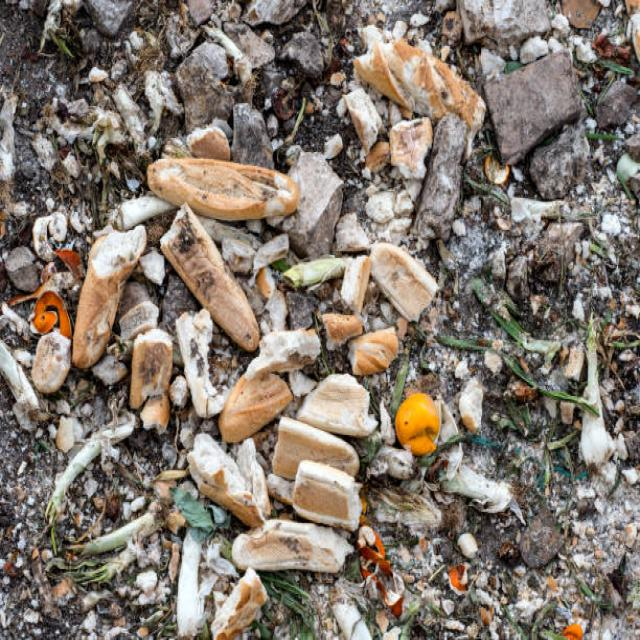trash: (18, 29, 610, 573)
